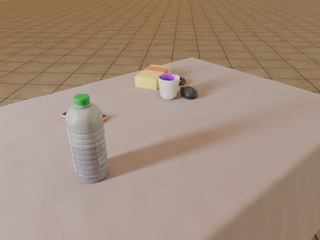bottle: (65, 94, 108, 183)
box: (135, 65, 170, 90)
cup: (158, 73, 180, 100)
mouse: (180, 86, 197, 99)
